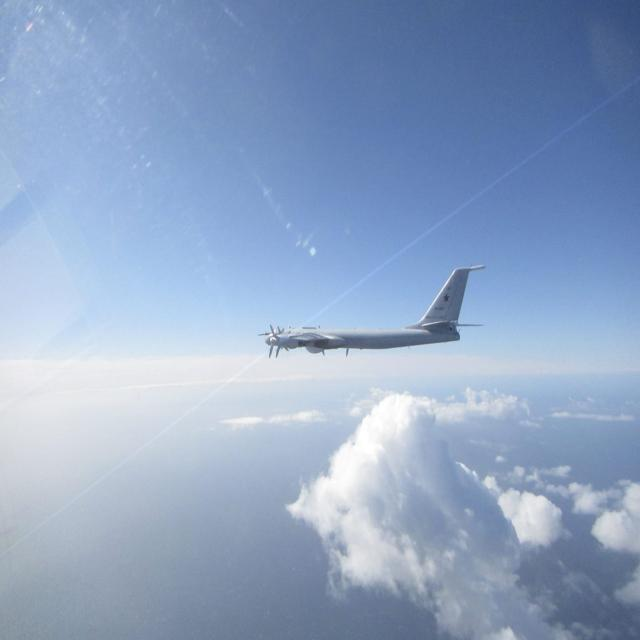MIL_Plane: (258, 263, 486, 359)
